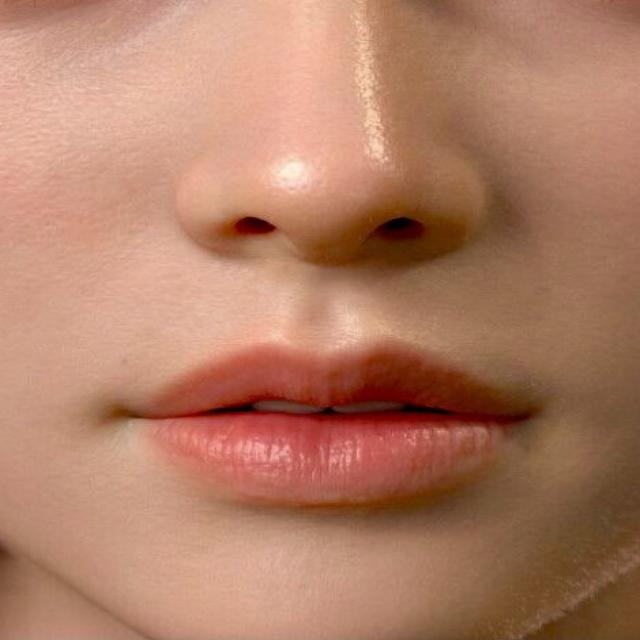Oily-Skin: (268, 134, 398, 220), (274, 282, 416, 346), (320, 7, 389, 98)
